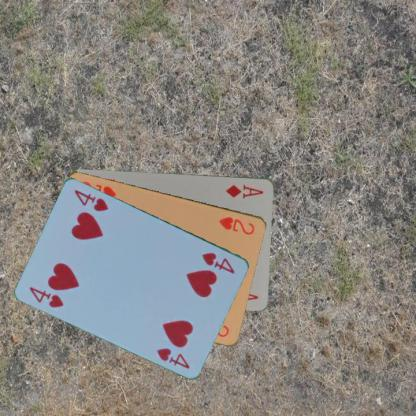2h: (216, 213, 256, 236)
4h: (27, 284, 65, 309), (200, 249, 236, 275)
Ad: (223, 182, 265, 199)
